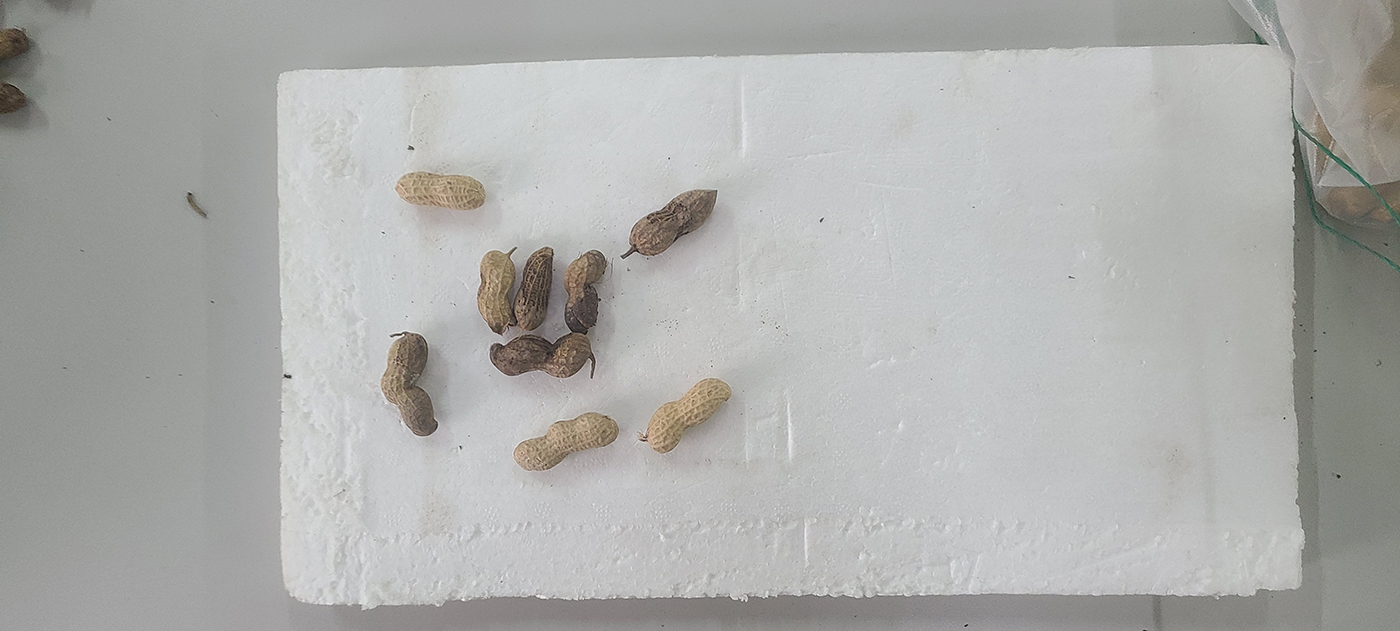h: (644, 378, 731, 453), (514, 412, 619, 470), (396, 171, 485, 211)
l: (380, 334, 439, 436), (630, 189, 718, 255), (490, 333, 592, 378), (513, 246, 554, 331), (565, 249, 606, 332), (477, 250, 517, 334)
